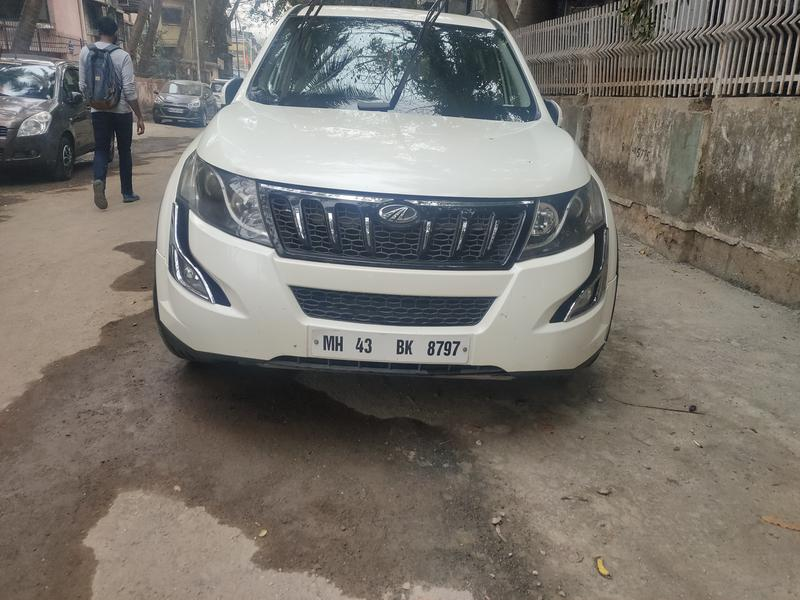license_plate: (303, 324, 478, 374)
